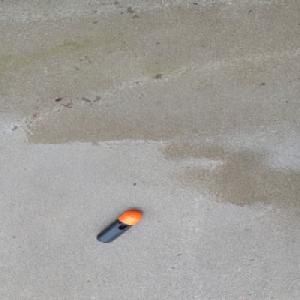PlasticPart: (94, 210, 143, 243)
